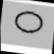no answer: (13, 8, 46, 38)
